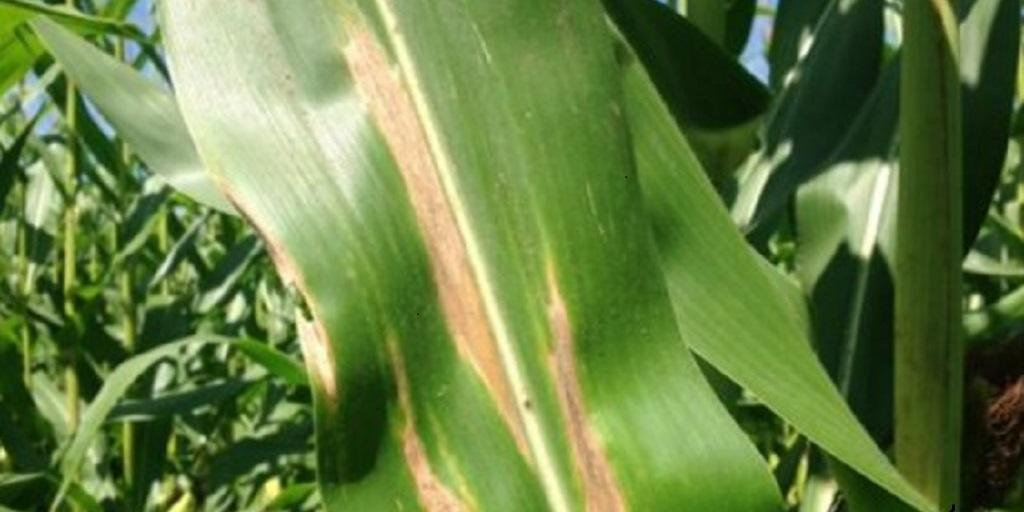Corn leaf blight: (162, 1, 738, 512)
